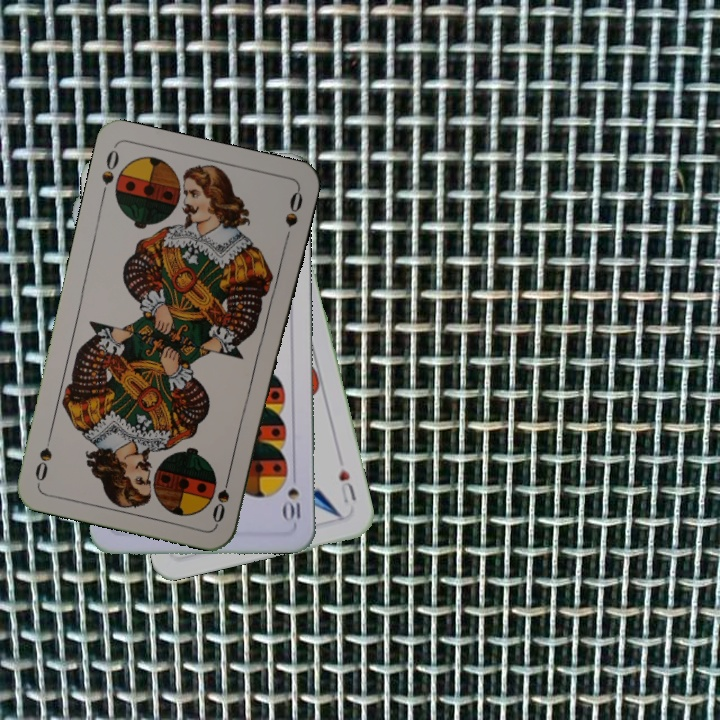HU: (335, 464, 359, 506)
S10: (281, 467, 303, 526)
SO: (208, 467, 234, 526), (97, 145, 122, 202)
